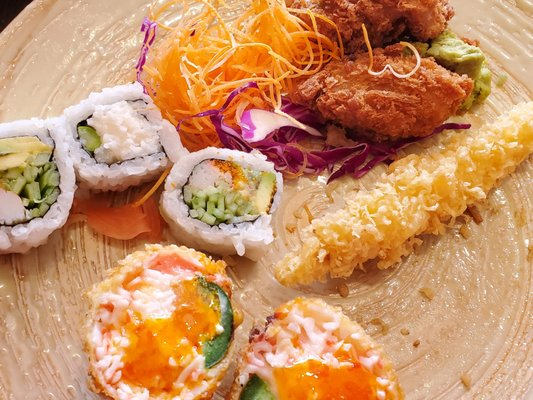soup: (82, 243, 238, 400), (57, 79, 172, 240), (0, 129, 77, 255)
